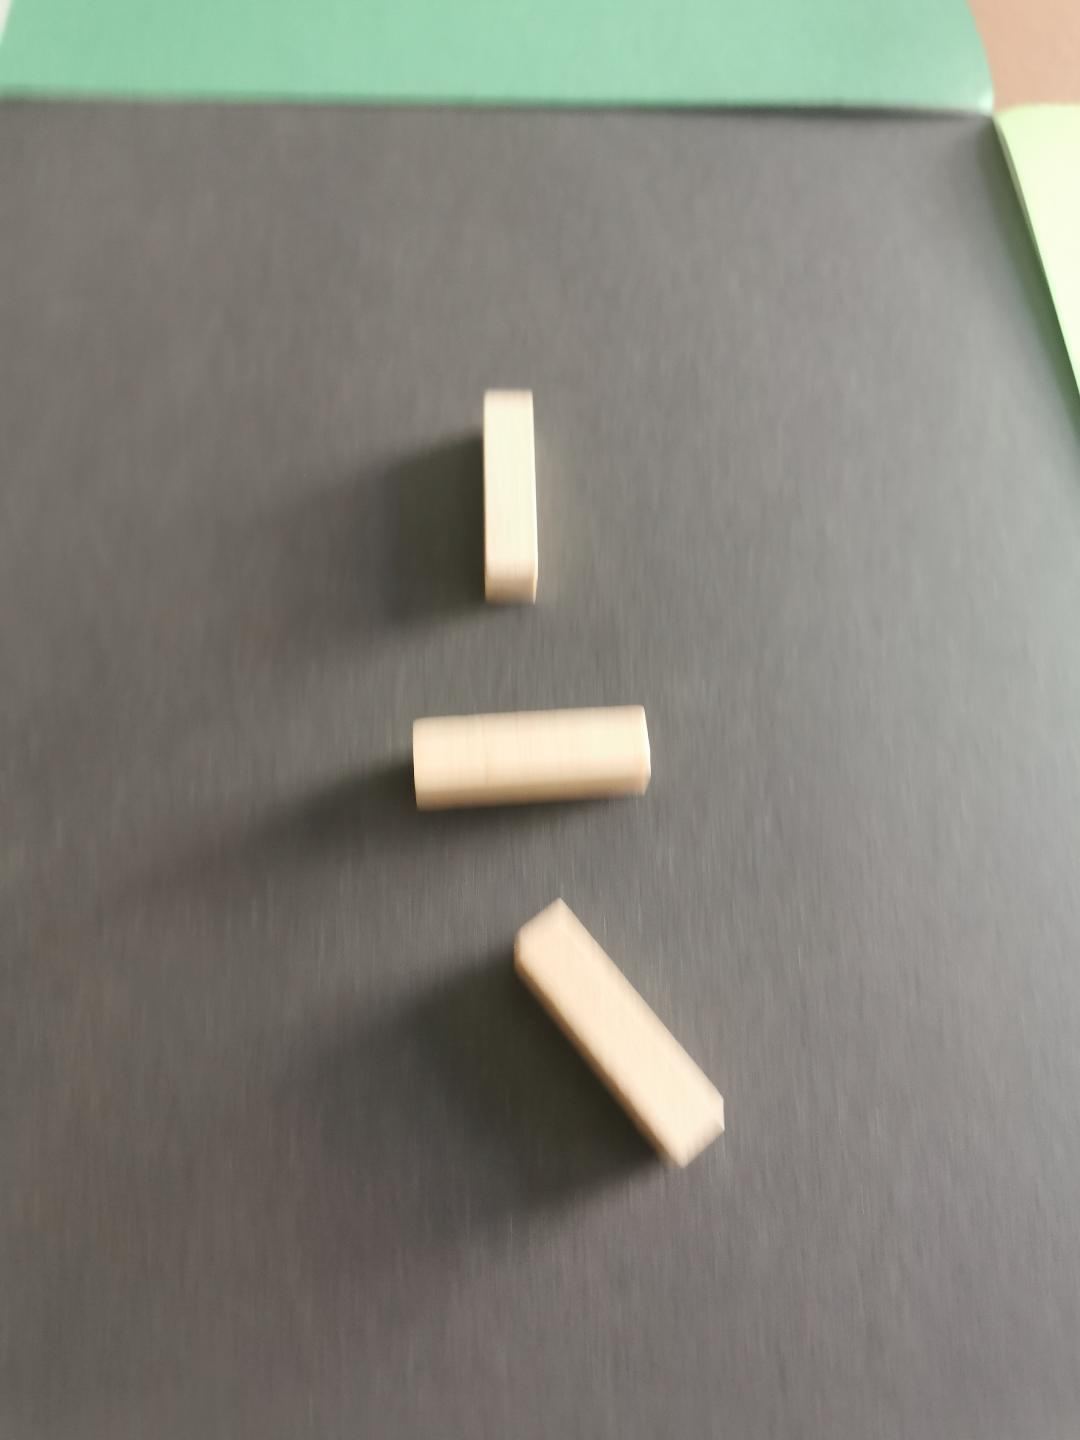jenga: (515, 900, 726, 1167), (413, 706, 650, 810), (483, 388, 538, 604)
